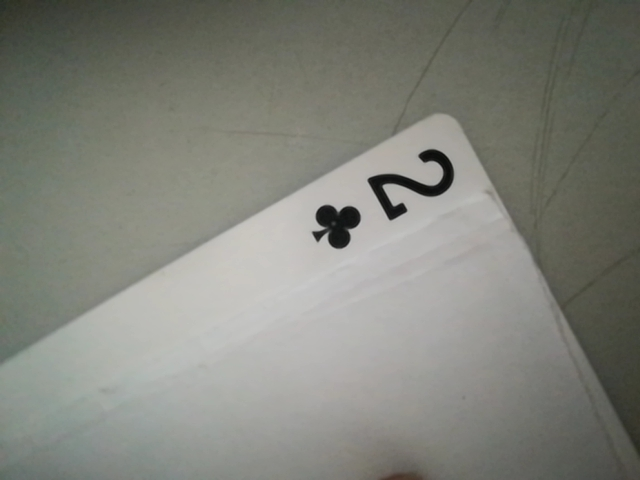mh 2: (291, 138, 483, 254)
